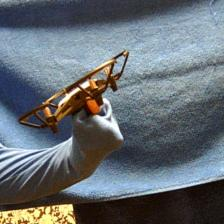drone: (17, 48, 131, 134)
